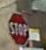stop: (6, 10, 29, 47)
